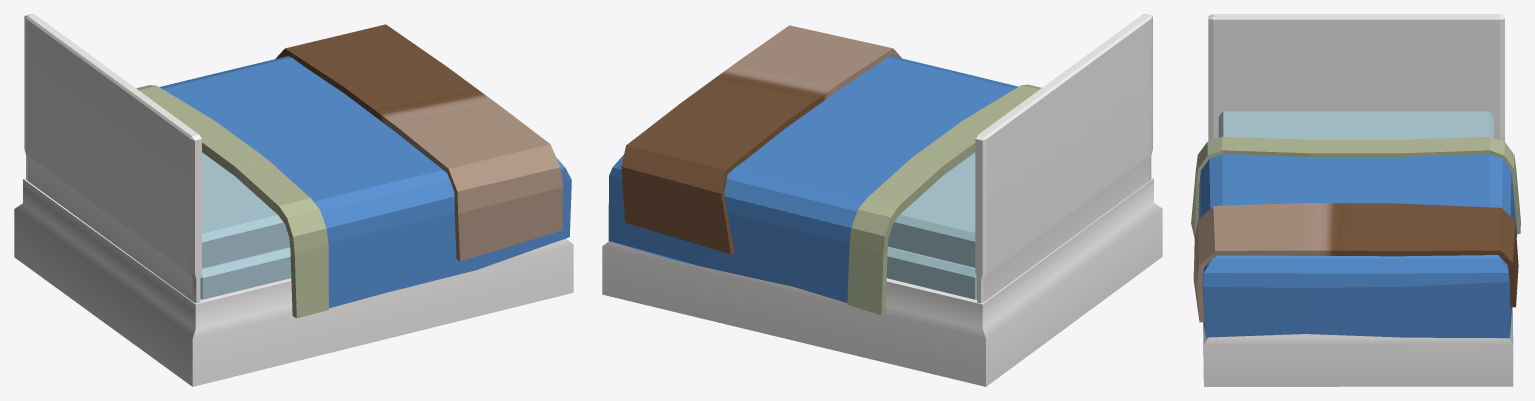
The model's file is Bedroom_2_Bedroom_Bed.fbx.
3 renders of one model, left to right at view 1: azimuth 30°, elevation 25°; view 2: azimuth 150°, elevation 25°; view 3: azimuth 270°, elevation 25°, orthographic. The views are drawn at different scales.
Parts seen in each view (by area): view 1: Bedroom_2_Bedroom_Bed; view 2: Bedroom_2_Bedroom_Bed; view 3: Bedroom_2_Bedroom_Bed.
Boxes of the visible parts, x1,y1,x2,y2 form: Bedroom_2_Bedroom_Bed: (14,14,573,386); Bedroom_2_Bedroom_Bed: (602,14,1162,386); Bedroom_2_Bedroom_Bed: (1191,14,1520,386).
Bounding box in the file's own units: 286 × 174 × 245.
